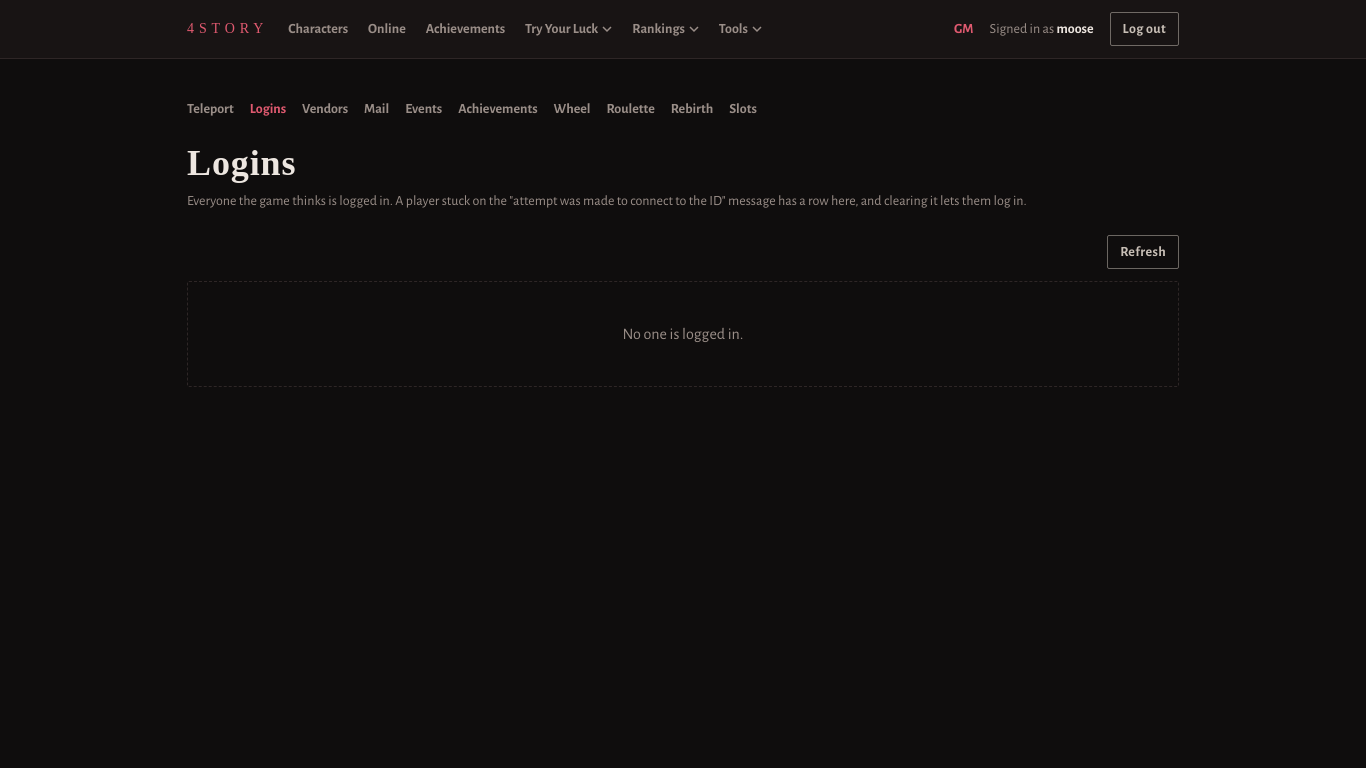
Test case: GM wheel page › is reachable from the other GM pages
What coordinates should you click on to do the following:
click the link "Wheel"
I would click on:
 (572, 109)
Its box is [554, 99, 590, 119].
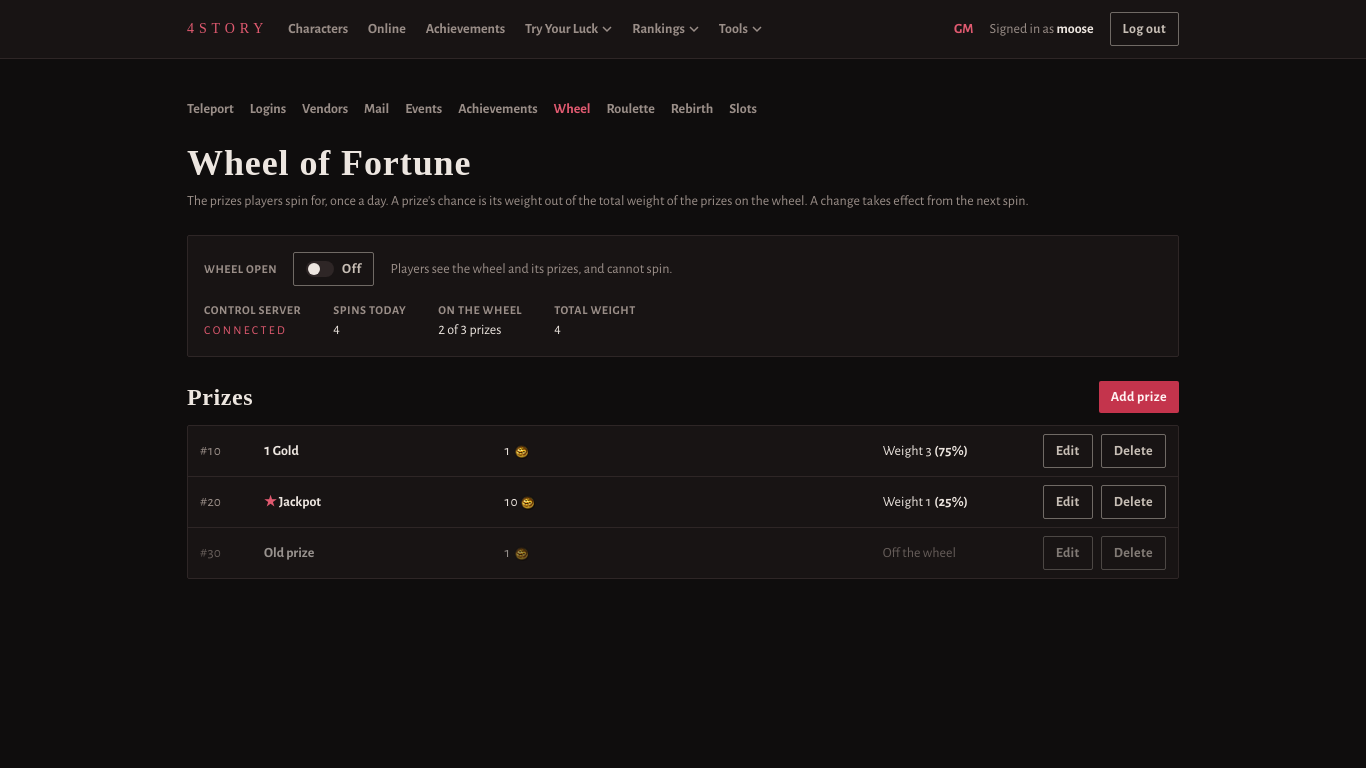
expect the element named "Status" is shown: met, box [187, 235, 1179, 357]
expect the heading "Wheel of Fortune" is shown: met, box [187, 143, 471, 183]
